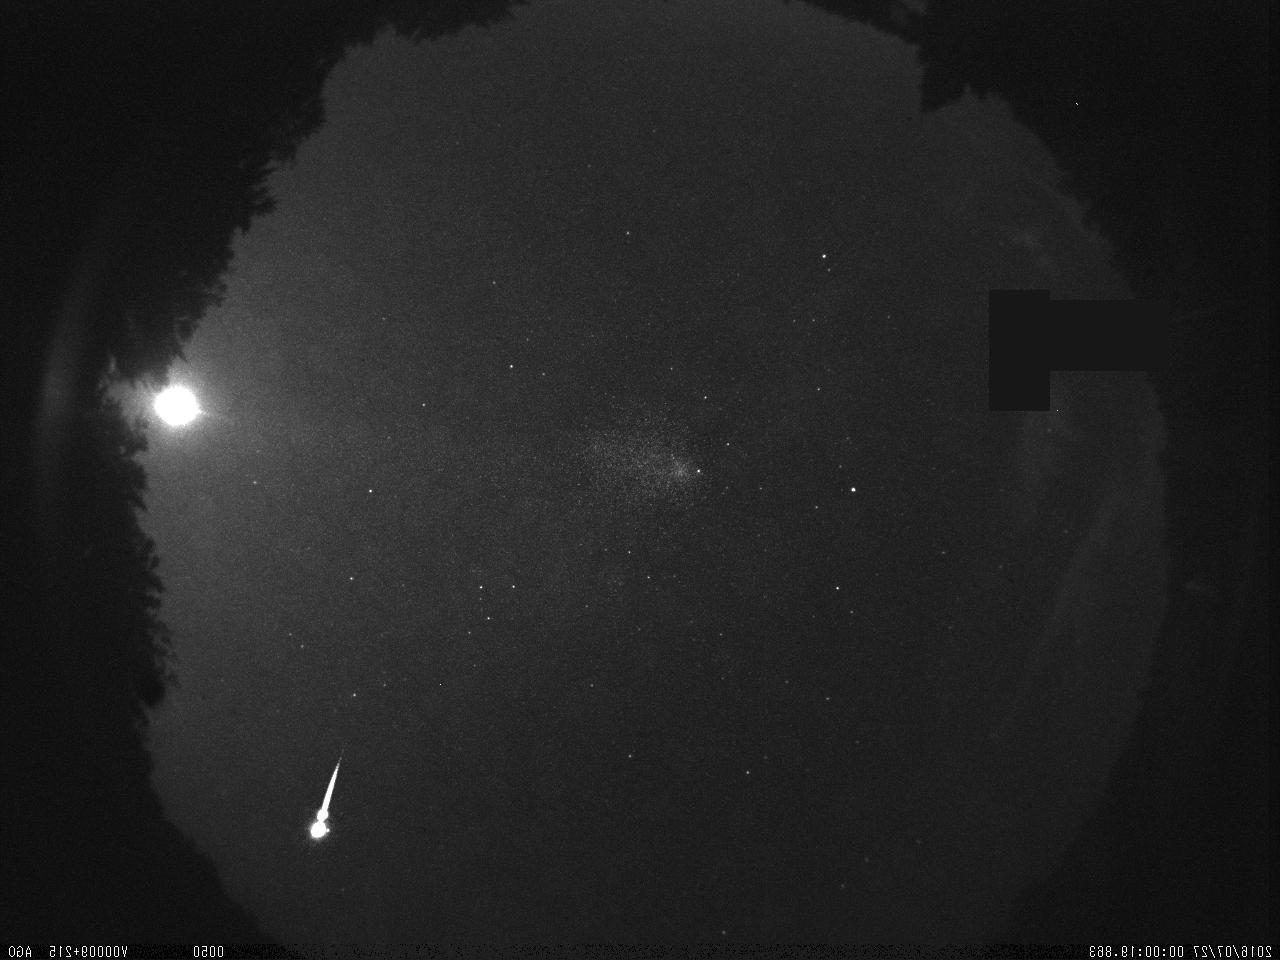meteor: (280, 733, 386, 864)
